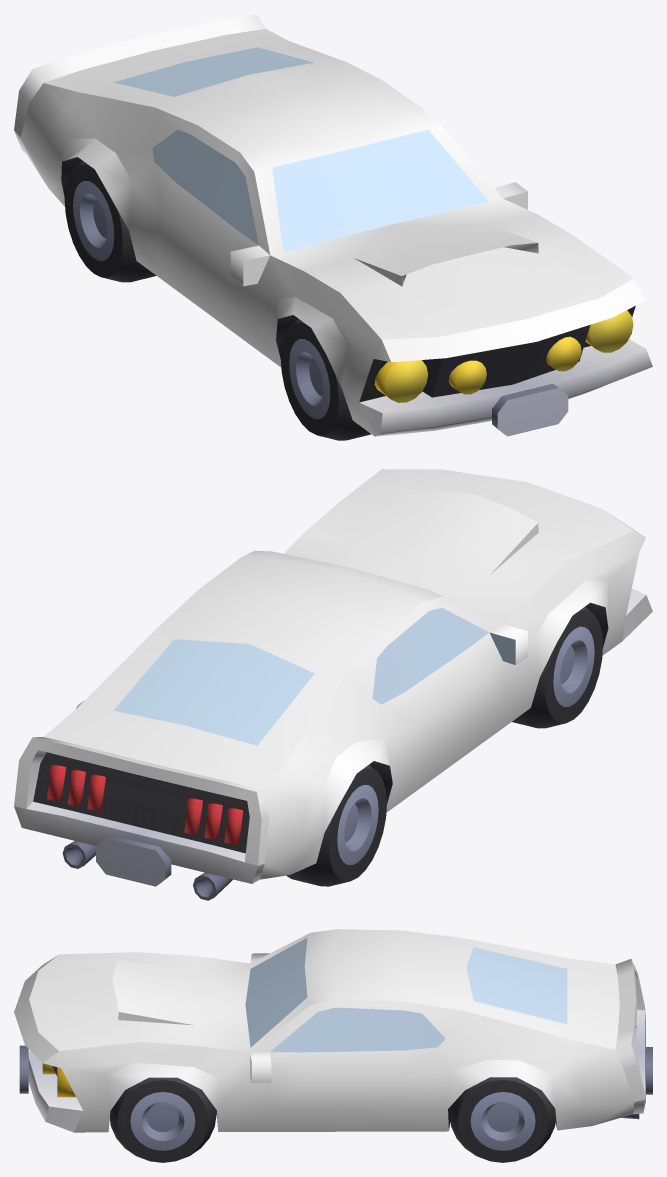
Rendered from stallion.fbx.
The picture shows the model from 3 angles, top to bottom: view 1: azimuth 30°, elevation 25°; view 2: azimuth 150°, elevation 25°; view 3: azimuth 270°, elevation 25°; orthographic projection. The views are drawn at different scales.
Parts seen in each view (by area): view 1: Paintable, Unpaintable, TireBR, TireFR; view 2: Paintable, Unpaintable, TireBR, TireFR; view 3: Paintable, Unpaintable, TireFL, TireBL.
Boxes of the visible parts, bbox=[...] form: Paintable: bbox=[14, 14, 645, 436]; Unpaintable: bbox=[14, 47, 652, 436]; TireBR: bbox=[64, 160, 156, 282]; TireFR: bbox=[280, 319, 370, 440]; Paintable: bbox=[14, 469, 645, 879]; Unpaintable: bbox=[14, 588, 652, 900]; TireBR: bbox=[286, 765, 386, 886]; TireFR: bbox=[512, 606, 602, 728]; Paintable: bbox=[14, 929, 645, 1132]; Unpaintable: bbox=[19, 937, 652, 1132]; TireFL: bbox=[109, 1077, 216, 1162]; TireBL: bbox=[450, 1077, 555, 1162].
Size of the model in its own units: 144 by 356 by 99.14.
Materials: 2 (1 with a texture image).
